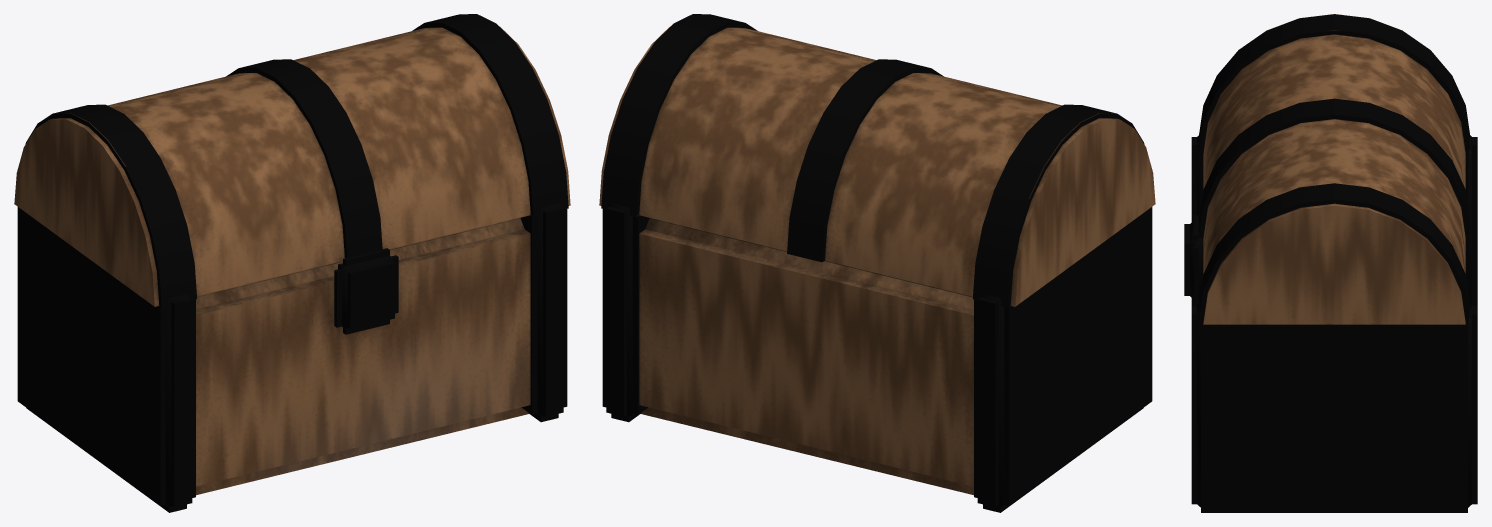
File: cenario_bau.glb
3 renders of one model, left to right at view 1: azimuth 30°, elevation 25°; view 2: azimuth 150°, elevation 25°; view 3: azimuth 270°, elevation 25°, orthographic. The views are drawn at different scales.
Parts seen in each view (by area): view 1: cenario_bau, cenario_bau_tampa; view 2: cenario_bau, cenario_bau_tampa; view 3: cenario_bau_tampa, cenario_bau.
Part boxes in pixels (bbox=[...]): cenario_bau: bbox=[17, 203, 567, 512]; cenario_bau_tampa: bbox=[14, 14, 570, 307]; cenario_bau: bbox=[602, 203, 1152, 512]; cenario_bau_tampa: bbox=[599, 14, 1155, 307]; cenario_bau_tampa: bbox=[1198, 14, 1470, 324]; cenario_bau: bbox=[1184, 135, 1477, 512].
Size of the model in its own units: 0.94 by 0.735 by 0.615.
Materials: 2 (2 with a texture image).
